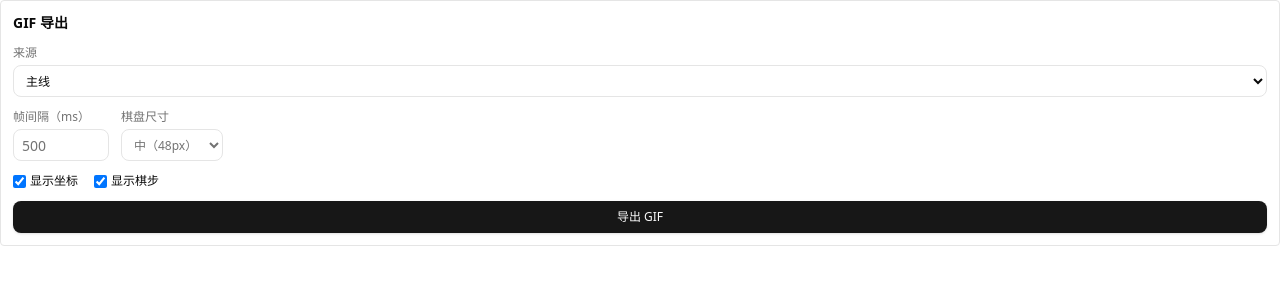
GifExportPanel › exports the current position
Step 1. Select "当前局面" in the dropdown with test id "gif-source" → [640, 81], box x1=13 y1=65 x2=1267 y2=97
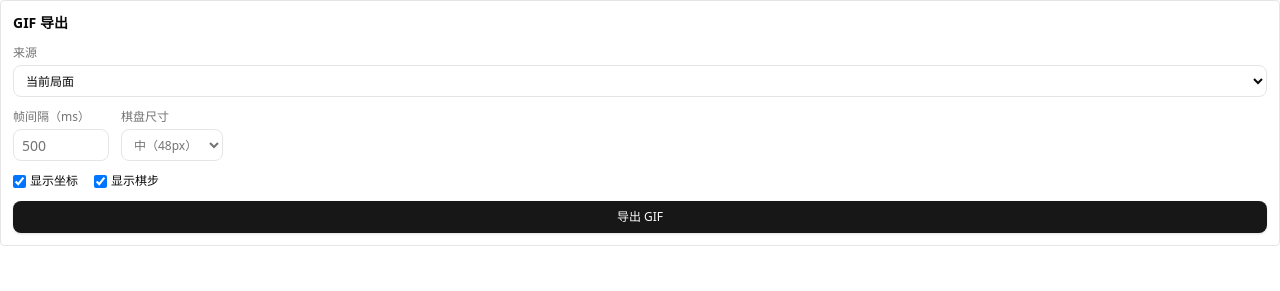
Step 2. Click the button with test id "gif-export" → [640, 217], box x1=13 y1=201 x2=1267 y2=233
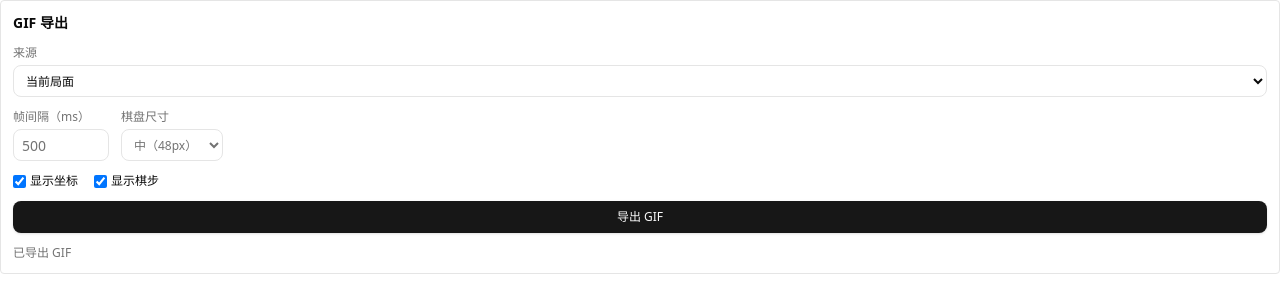
Expected: the text with test id "gif-message" shows "已导出", x1=13 y1=244 x2=71 y2=261
